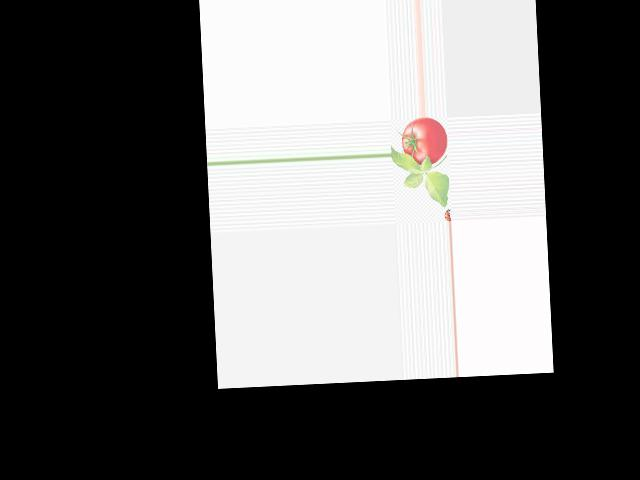tomato: (401, 116, 448, 166)
